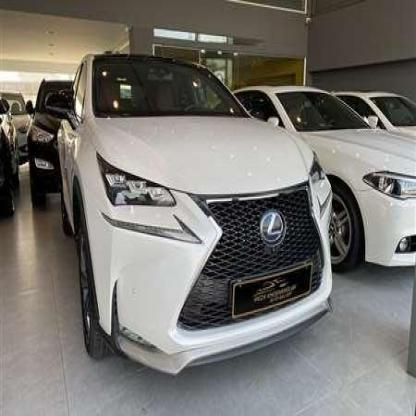Car: (55, 46, 336, 392), (236, 76, 416, 291), (27, 78, 78, 216), (0, 86, 30, 166)
